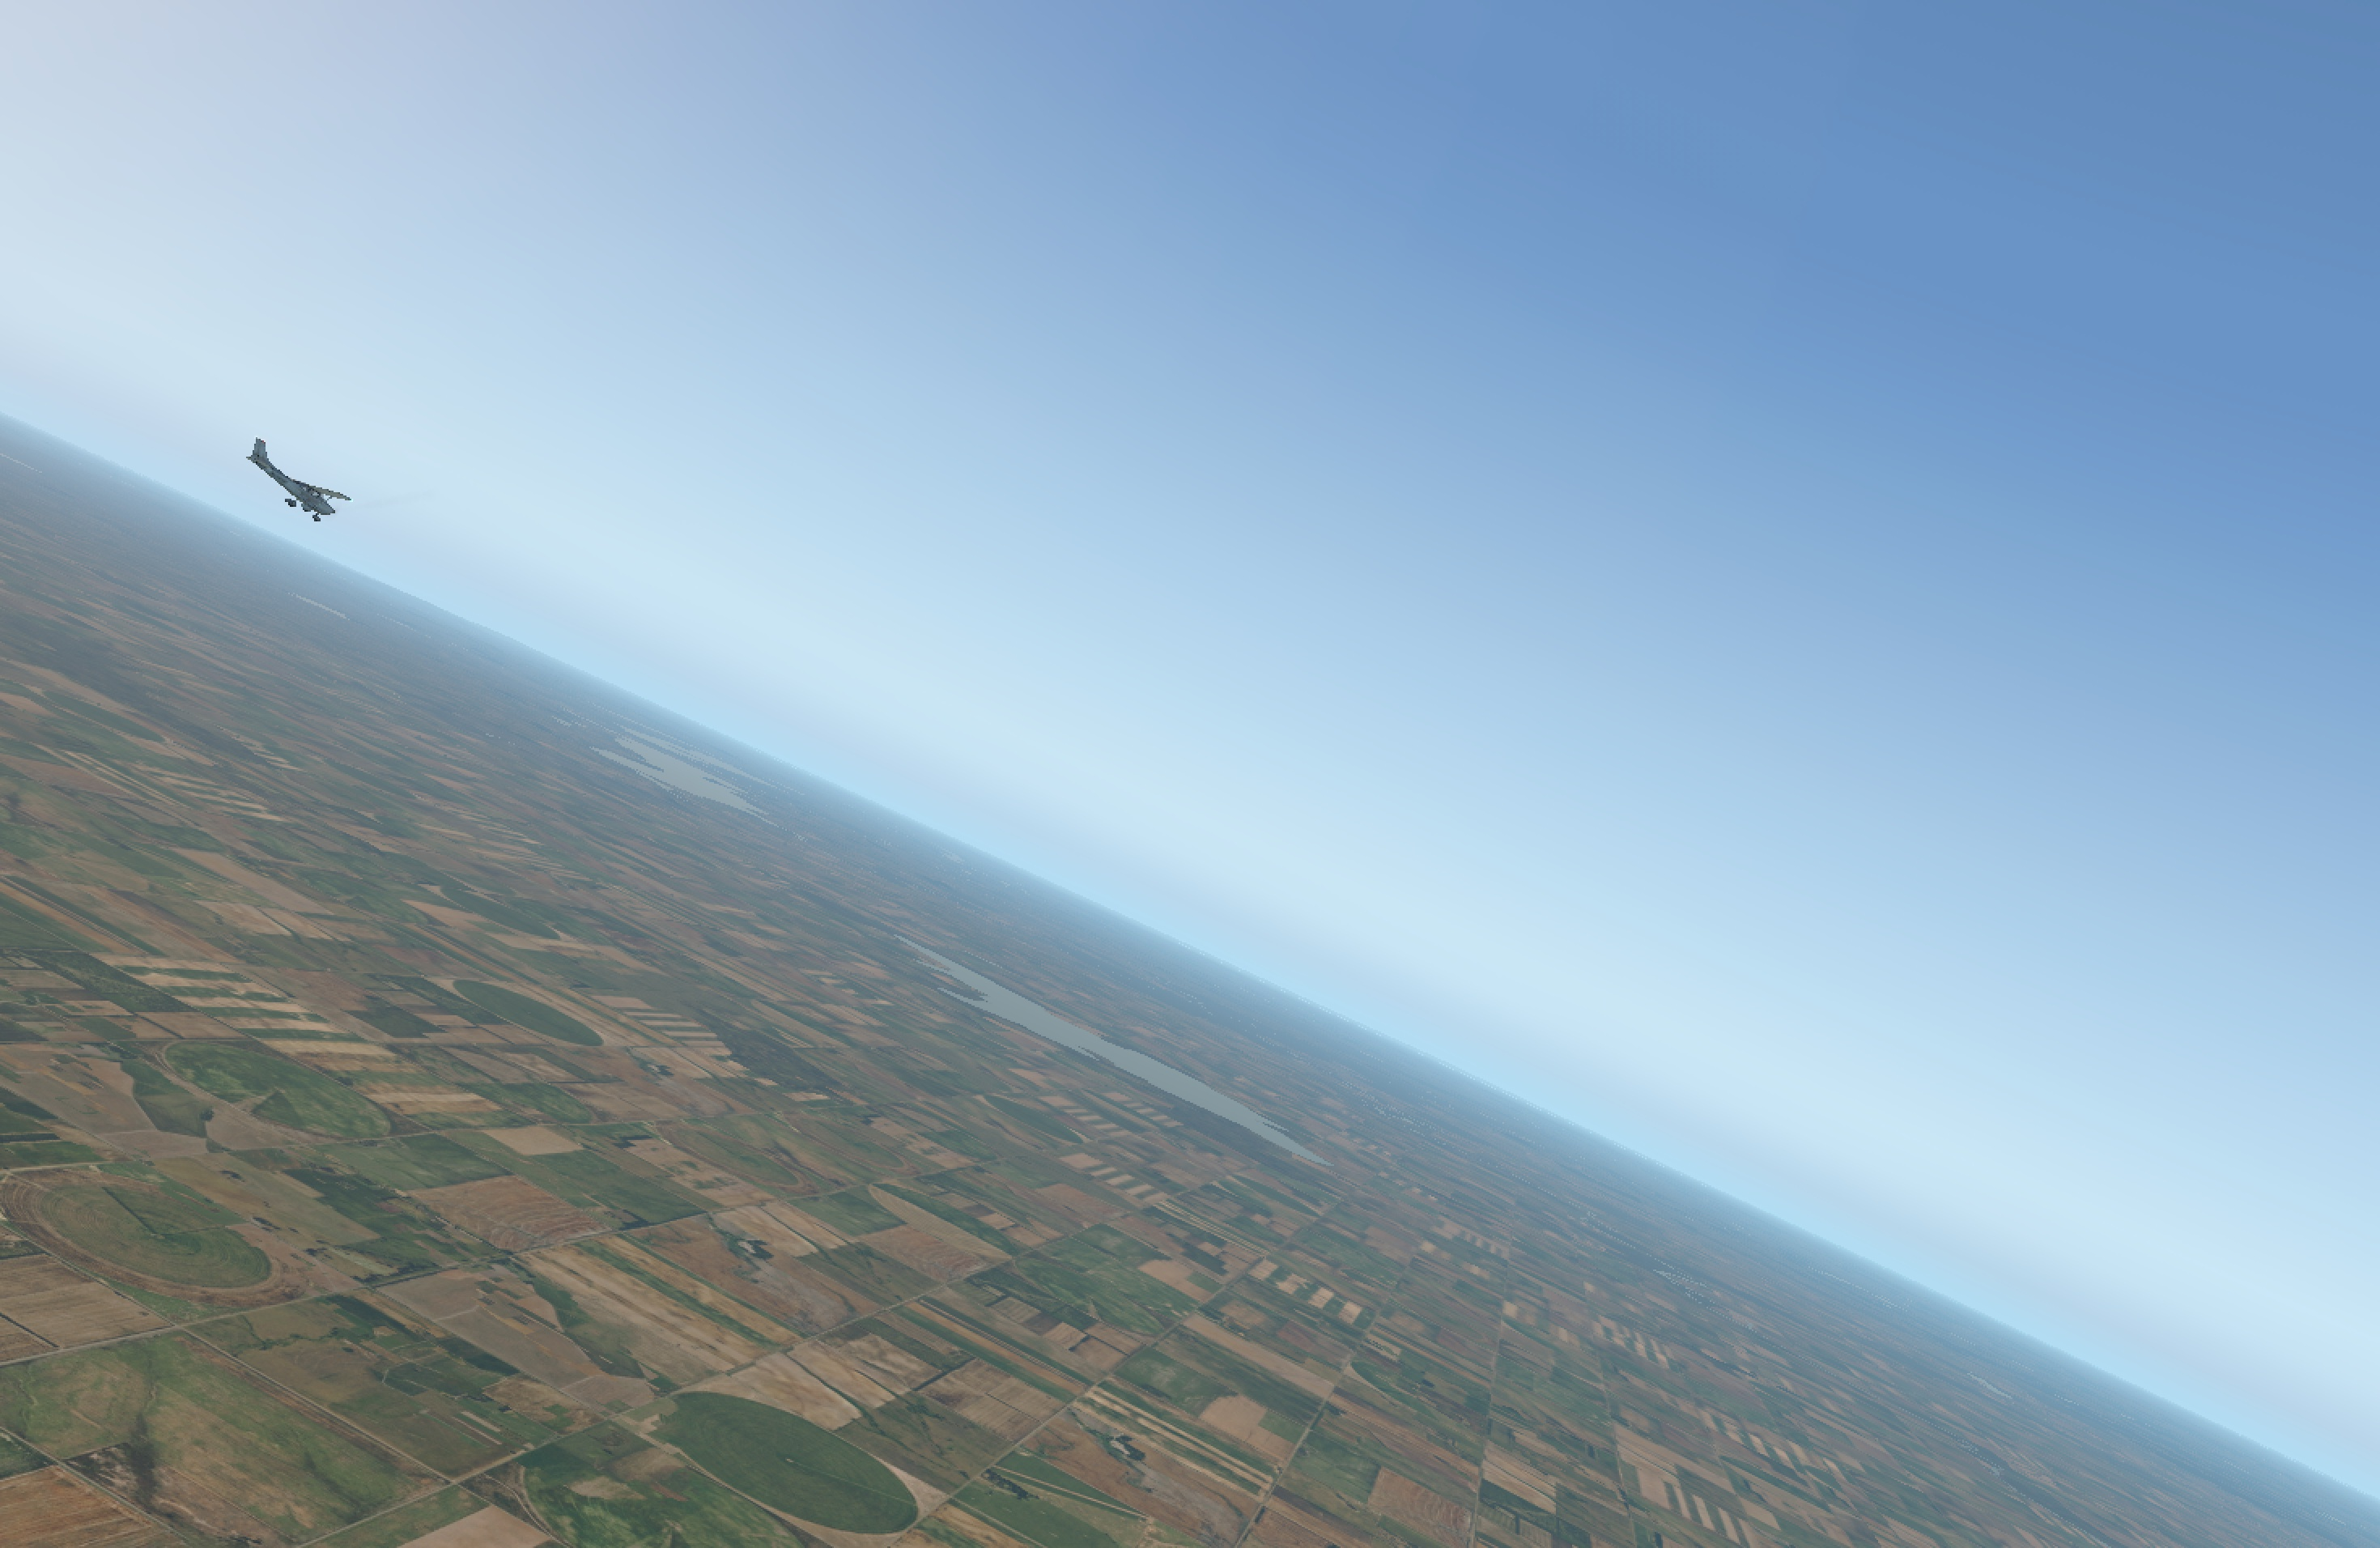aircraft: (264, 477, 357, 514)
